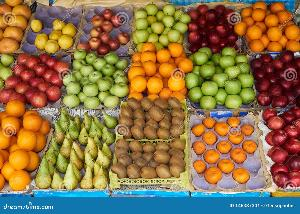apple: (196, 49, 260, 107), (3, 54, 69, 106), (68, 52, 126, 108), (262, 115, 300, 191), (130, 5, 184, 53), (76, 6, 132, 50), (256, 58, 300, 114), (188, 6, 242, 48)
kiwi: (112, 100, 188, 184)
orange: (189, 111, 261, 184), (0, 108, 48, 190), (124, 46, 194, 98), (236, 5, 300, 49), (0, 3, 32, 51)
pear: (45, 108, 111, 194)
